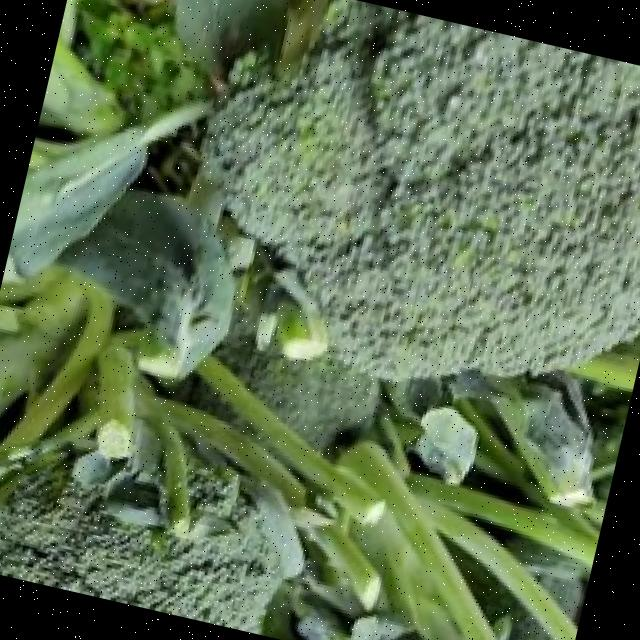Broccoli: (203, 0, 640, 379), (204, 0, 640, 379), (0, 458, 281, 633), (0, 459, 281, 633), (212, 336, 378, 450), (214, 337, 377, 449), (152, 373, 258, 437), (160, 375, 233, 421)
